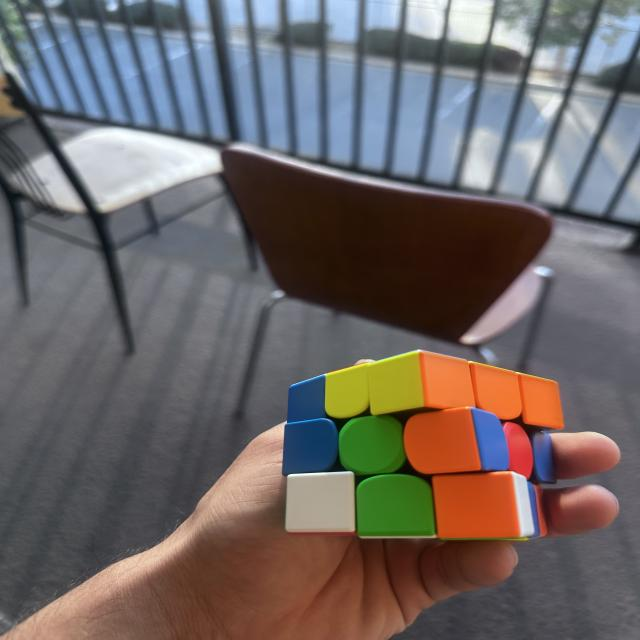sticker: (431, 470, 534, 543), (366, 350, 466, 418), (402, 407, 491, 478), (354, 472, 436, 540), (282, 468, 360, 537), (410, 351, 479, 417), (337, 414, 408, 477), (280, 418, 343, 478), (467, 360, 523, 423), (323, 360, 372, 420), (516, 371, 564, 432), (468, 408, 510, 476), (286, 373, 328, 425), (501, 422, 535, 482), (528, 430, 558, 485), (522, 480, 544, 541)
